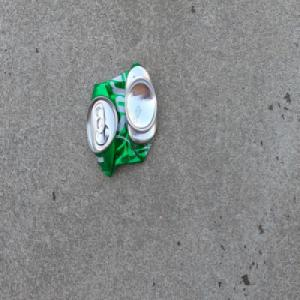SodaCan: (84, 59, 158, 178)
